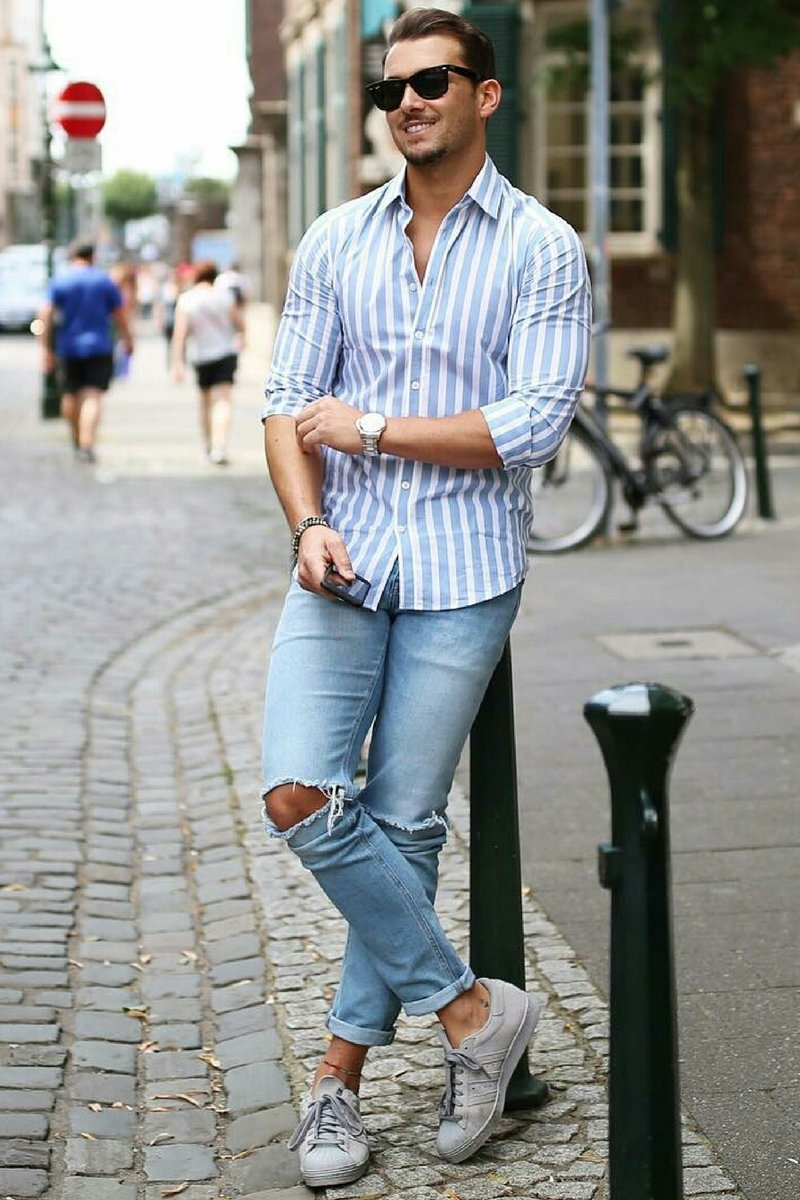NOTSAFE: (293, 4, 534, 617)
